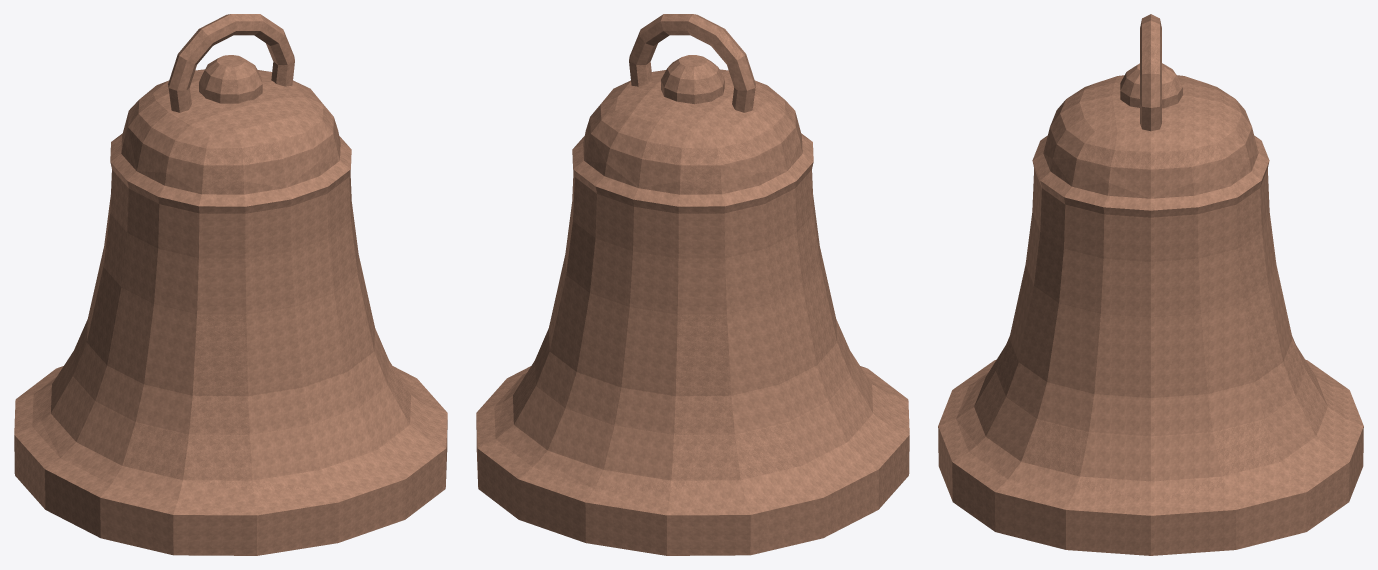
The model's file is WholeBell.glb.
3 views of the same model, side by side, from view 1: azimuth 30°, elevation 25°; view 2: azimuth 150°, elevation 25°; view 3: azimuth 270°, elevation 25° (orthographic).
Visible parts, largest first — view 1: Mesh_Mesh_head_geo.001_lambert2SG.001; view 2: Mesh_Mesh_head_geo.001_lambert2SG.001; view 3: Mesh_Mesh_head_geo.001_lambert2SG.001.
Boxes of the visible parts, left/top/right/bottom form: Mesh_Mesh_head_geo.001_lambert2SG.001: left=14, top=14, right=447, bottom=555; Mesh_Mesh_head_geo.001_lambert2SG.001: left=476, top=14, right=909, bottom=555; Mesh_Mesh_head_geo.001_lambert2SG.001: left=938, top=14, right=1363, bottom=555.
Size of the model in its own units: 28.5 by 32.97 by 28.53.
1 material, 1 textured.
